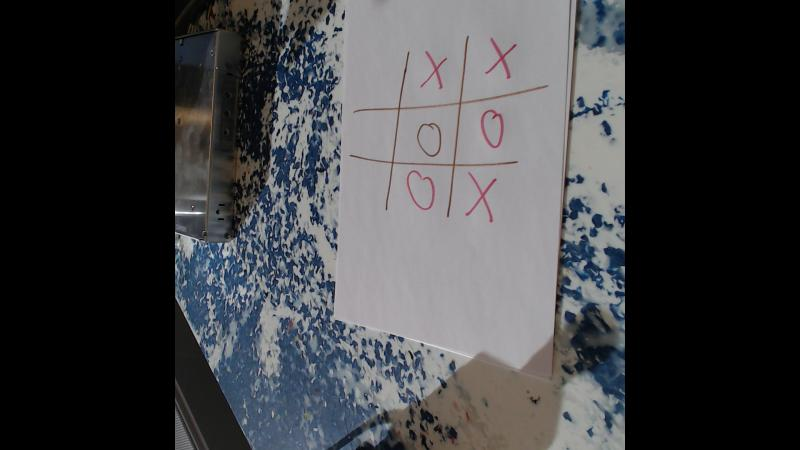O: (474, 103, 516, 148), (410, 115, 450, 160), (403, 167, 442, 209)
X: (457, 169, 508, 219), (481, 36, 519, 80), (416, 50, 452, 91)
grid: (352, 45, 553, 219)
